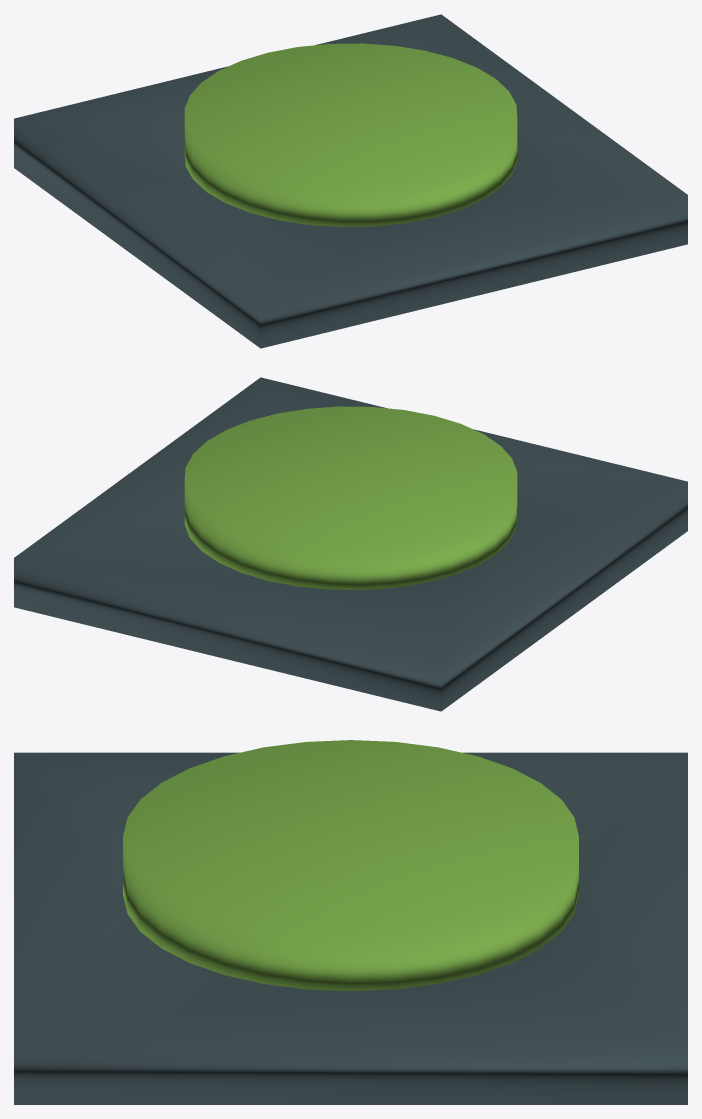
The model's file is Button.fbx.
3 views of the same model, one above another, from view 1: azimuth 30°, elevation 25°; view 2: azimuth 150°, elevation 25°; view 3: azimuth 270°, elevation 25° (orthographic). The views are drawn at different scales.
Visible parts, largest first — view 1: Cube, Cylinder; view 2: Cube, Cylinder; view 3: Cube, Cylinder.
Boxes of the visible parts, x1,y1,x2,y2 form: Cube: (14,14,687,348); Cylinder: (184,43,517,226); Cube: (14,377,687,711); Cylinder: (184,406,517,589); Cube: (14,752,687,1104); Cylinder: (123,740,578,991).
Size of the model in its own units: 200 by 200 by 41.33.
